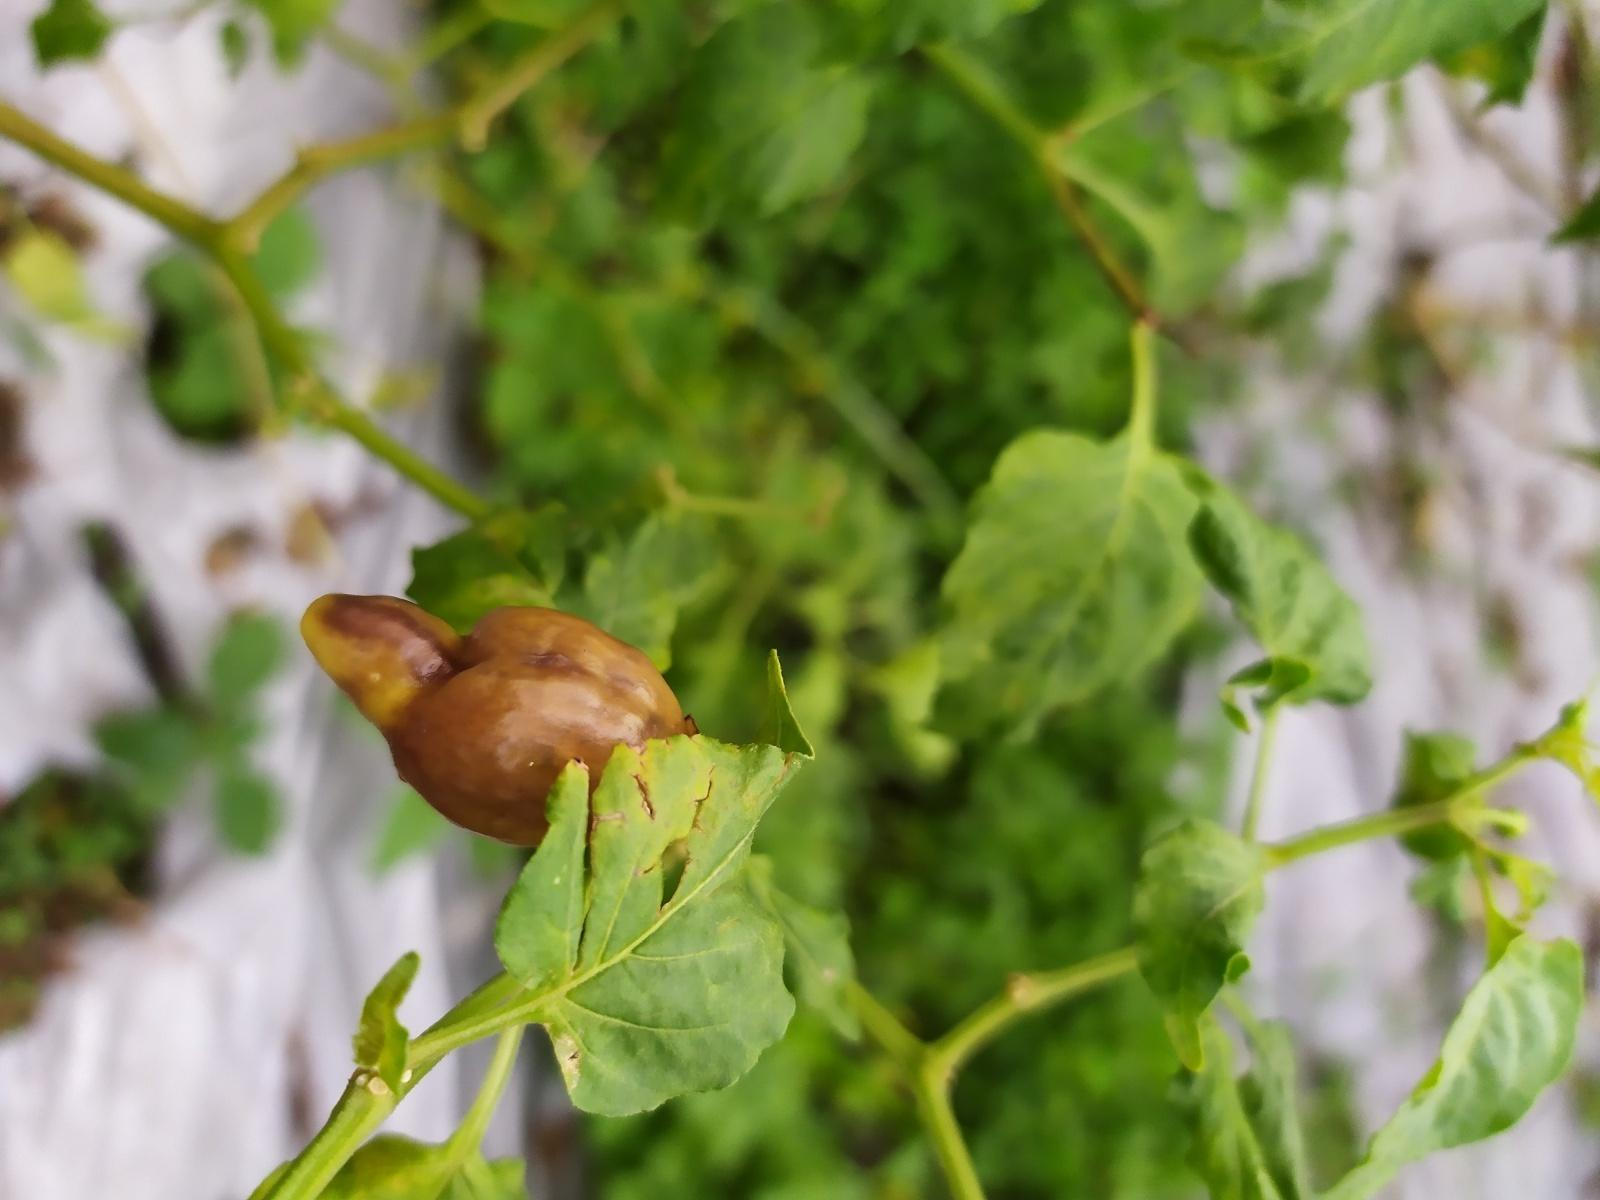lalat_buah: (295, 591, 694, 847)
